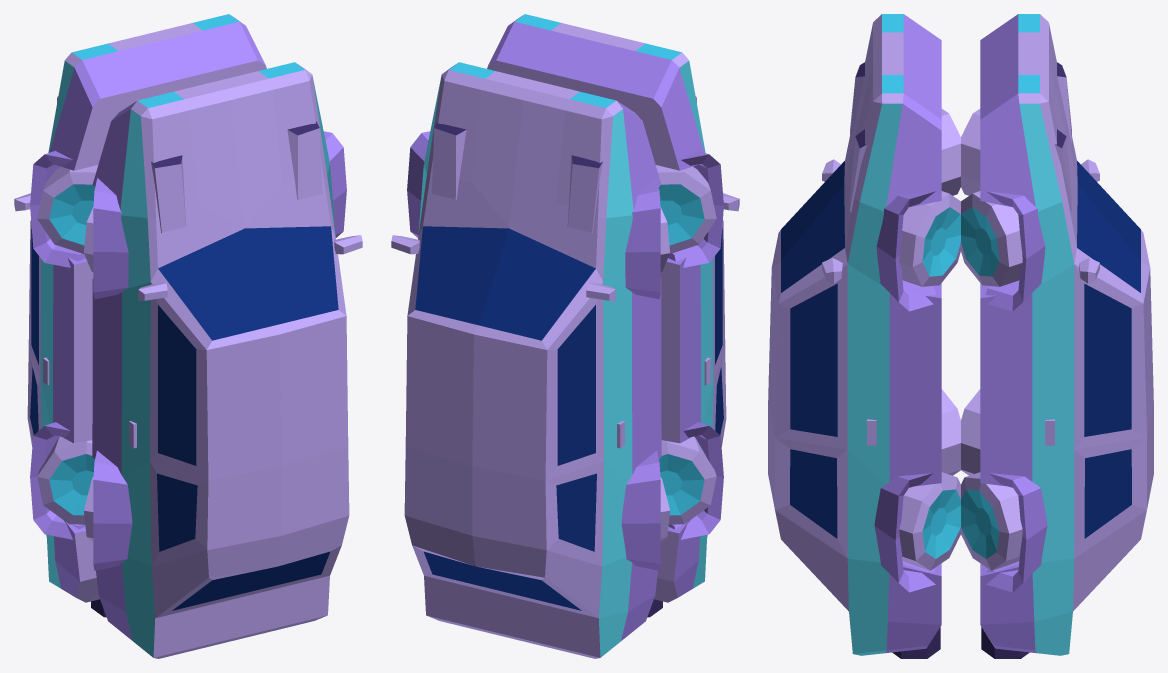
The model's file is 015_SciFiCar.fbx.
3 views of the same model, side by side, from view 1: azimuth 30°, elevation 25°; view 2: azimuth 150°, elevation 25°; view 3: azimuth 270°, elevation 25° (orthographic). The views are drawn at different scales.
Visible parts, largest first — view 1: SCIFICAR; view 2: SCIFICAR; view 3: SCIFICAR.
Part boxes in pixels (x1,y1,x2,y2): SCIFICAR: (14,14,362,658); SCIFICAR: (391,14,739,658); SCIFICAR: (768,14,1153,658).
Bounding box in the file's own units: 46.86 × 96.42 × 59.07.
